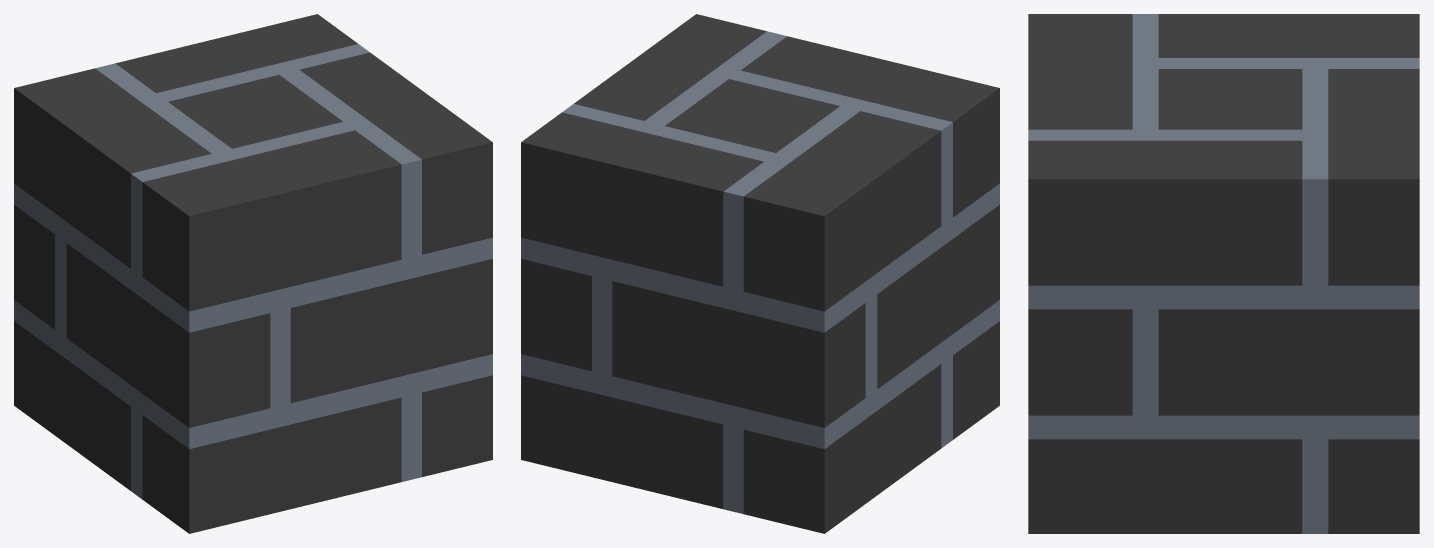
Rendered from wall2.obj.
3 renders of one model, left to right at view 1: azimuth 30°, elevation 25°; view 2: azimuth 150°, elevation 25°; view 3: azimuth 270°, elevation 25°, orthographic. The views are drawn at different scales.
Size of the model in its own units: 3 by 3 by 3.
Materials: 1 (1 with a texture image).
